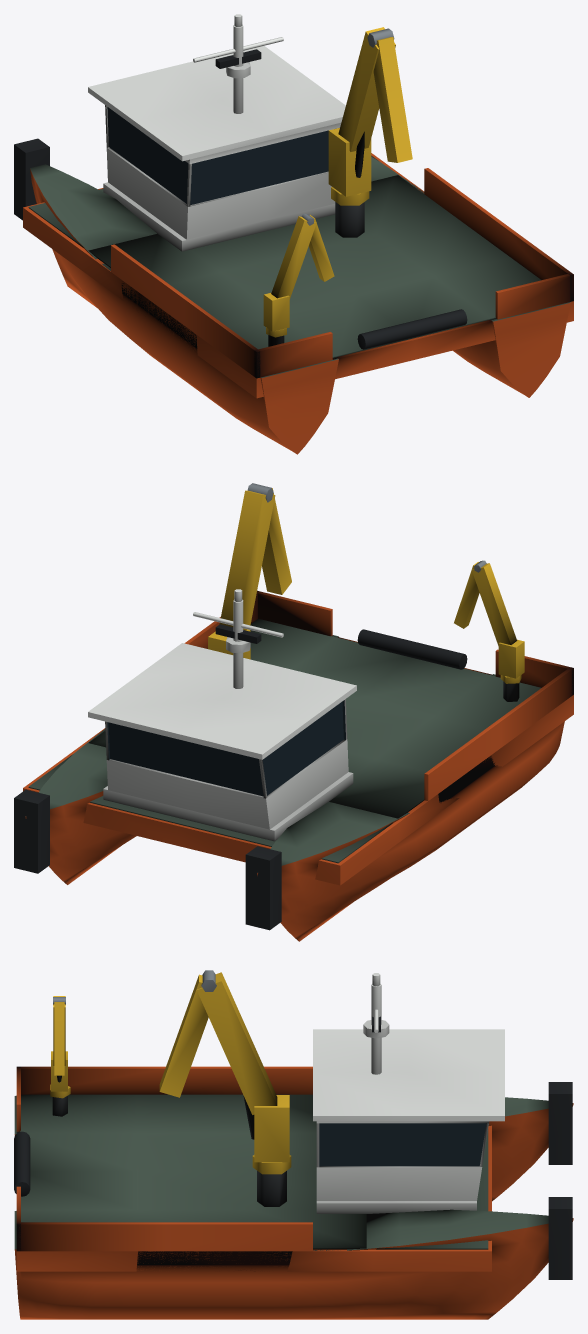
Rendered from workboat_LOD1.glb.
3 renders of one model, top to bottom at view 1: azimuth 30°, elevation 25°; view 2: azimuth 150°, elevation 25°; view 3: azimuth 270°, elevation 25°, orthographic.
Visible parts, largest first — view 1: Deck, Hull, Superstructure, Crane, Windows, Rubber, Machinery; view 2: Hull, Deck, Superstructure, Crane, Windows, Rubber, Machinery; view 3: Hull, Deck, Superstructure, Crane, Windows, Rubber, Machinery.
Boxes of the visible parts, x1,y1,x2,y2 form: Deck: (28,155,570,377); Hull: (23,153,573,454); Superstructure: (88,14,345,251); Crane: (263,27,412,337); Windows: (107,107,328,204); Rubber: (14,49,467,349); Machinery: (268,28,394,346); Hull: (23,590,573,941); Deck: (25,618,541,872); Superstructure: (88,589,356,841); Crane: (208,488,524,683); Windows: (107,700,345,796); Rubber: (14,624,467,930); Machinery: (247,483,519,701); Hull: (14,1066,573,1319); Deck: (14,1094,572,1250); Superstructure: (313,973,504,1213); Crane: (50,972,291,1174); Windows: (319,1123,486,1166); Rubber: (14,1016,572,1279); Machinery: (52,970,286,1206).
Size of the model in its own units: 10 by 9.38 by 15.02.
